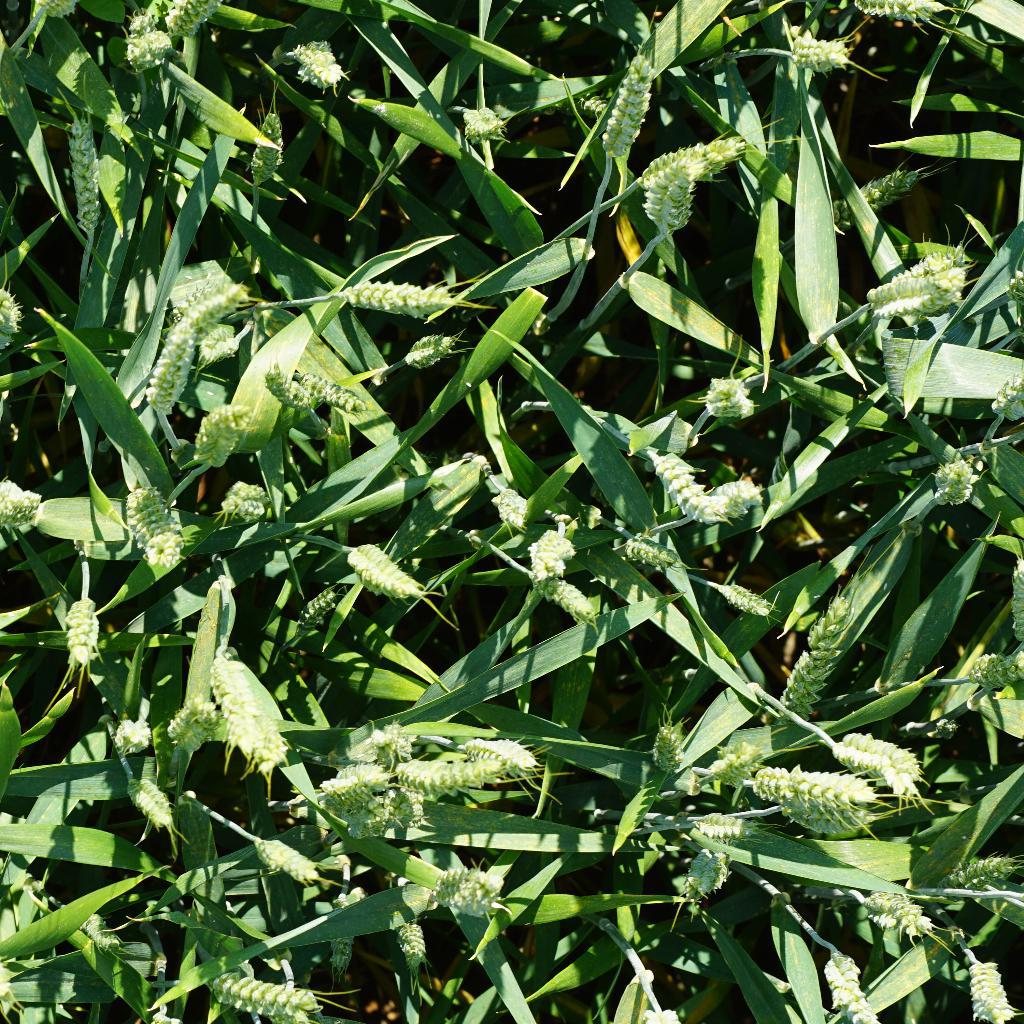0-0: (763, 759, 889, 834), (789, 590, 859, 712), (212, 654, 290, 763), (867, 242, 971, 313), (828, 727, 931, 798), (600, 48, 658, 168), (60, 105, 109, 232), (333, 272, 455, 321), (344, 541, 437, 605), (215, 960, 318, 1016), (331, 787, 434, 840), (119, 486, 190, 560), (647, 137, 698, 240), (178, 273, 256, 340), (815, 952, 885, 1024), (138, 326, 193, 417), (656, 448, 722, 523), (520, 519, 589, 586), (534, 574, 613, 630), (187, 395, 250, 464), (866, 884, 946, 938), (57, 898, 128, 958), (927, 444, 993, 508), (395, 751, 503, 789), (436, 863, 514, 915), (320, 758, 403, 806), (305, 363, 373, 421), (253, 830, 324, 884), (963, 957, 1019, 1024), (64, 595, 108, 679), (127, 773, 185, 836), (860, 157, 934, 206), (470, 733, 544, 781), (957, 649, 1024, 702), (692, 119, 752, 178), (396, 324, 474, 369), (795, 26, 867, 74), (169, 694, 225, 755), (959, 845, 1024, 897), (713, 572, 781, 621), (285, 582, 339, 642), (295, 32, 352, 88), (163, 0, 236, 43), (639, 718, 692, 776), (684, 844, 732, 904), (251, 107, 286, 189), (264, 363, 317, 417), (691, 808, 768, 844), (710, 477, 770, 523), (218, 474, 273, 524), (322, 893, 357, 971), (706, 367, 759, 418), (705, 735, 761, 783), (191, 321, 254, 363), (623, 534, 686, 576), (126, 17, 175, 70), (459, 92, 507, 146), (0, 473, 43, 531), (486, 479, 535, 529), (858, 0, 946, 27), (363, 721, 421, 761), (0, 284, 27, 369), (388, 914, 429, 963), (115, 714, 157, 757), (547, 95, 610, 119)
